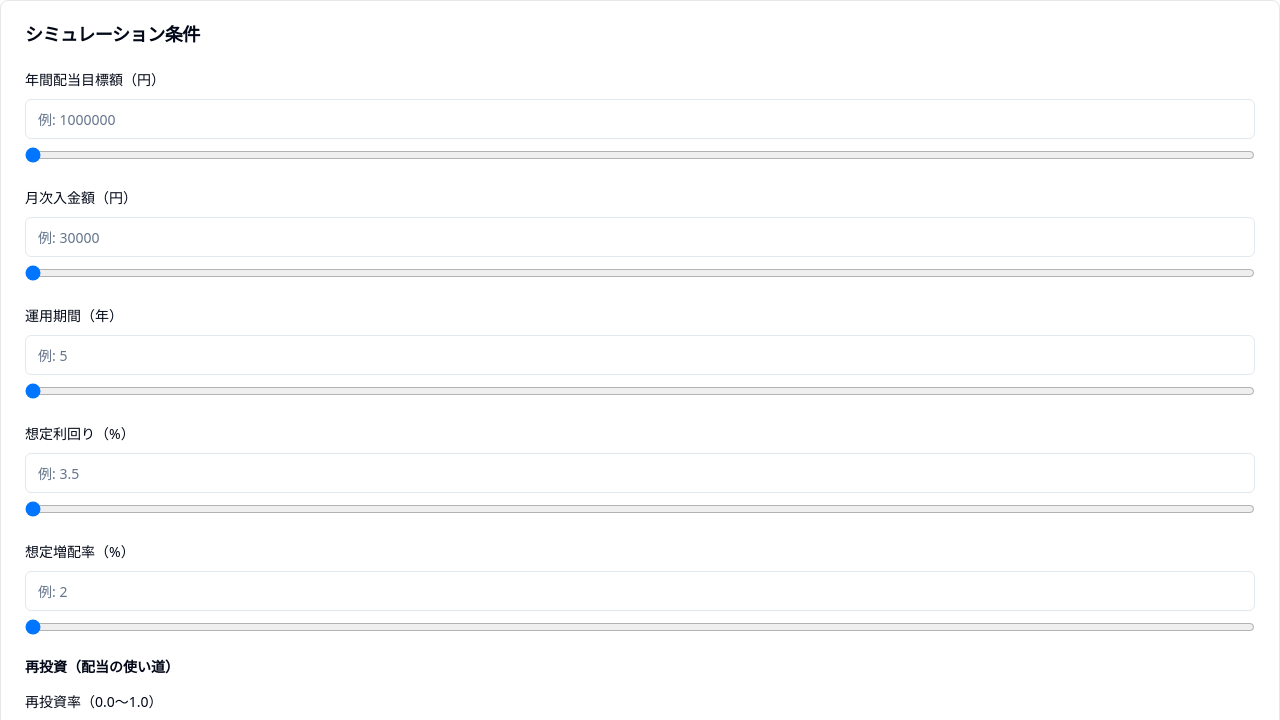
it: SimulationForm › 数値入力とスライダーが同期する
Type "2000000" into the number field labelled "年間配当目標額（円）" at (640, 119), box [25, 99, 1255, 139]
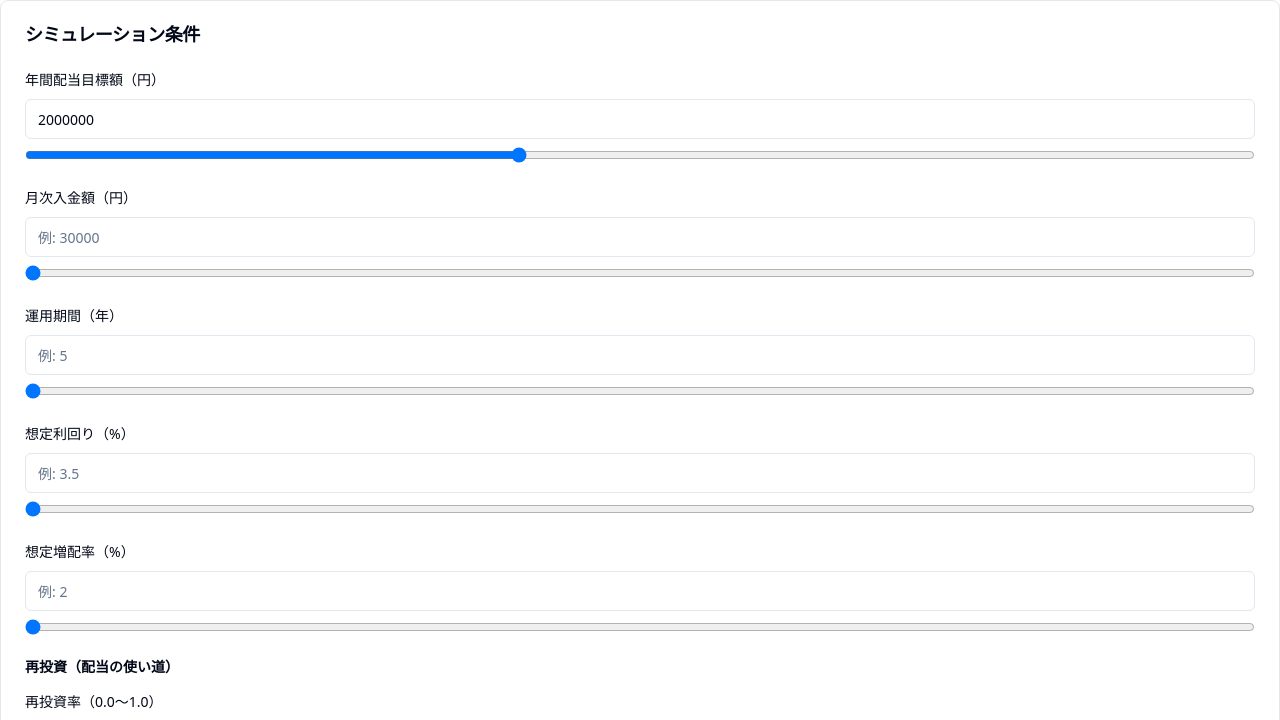
Check: the slider named "年間配当目標額スライダー" holds "2000000"
Set the slider named "年間配当目標額スライダー" to "1500000" at (397, 155), box [25, 147, 1255, 163]
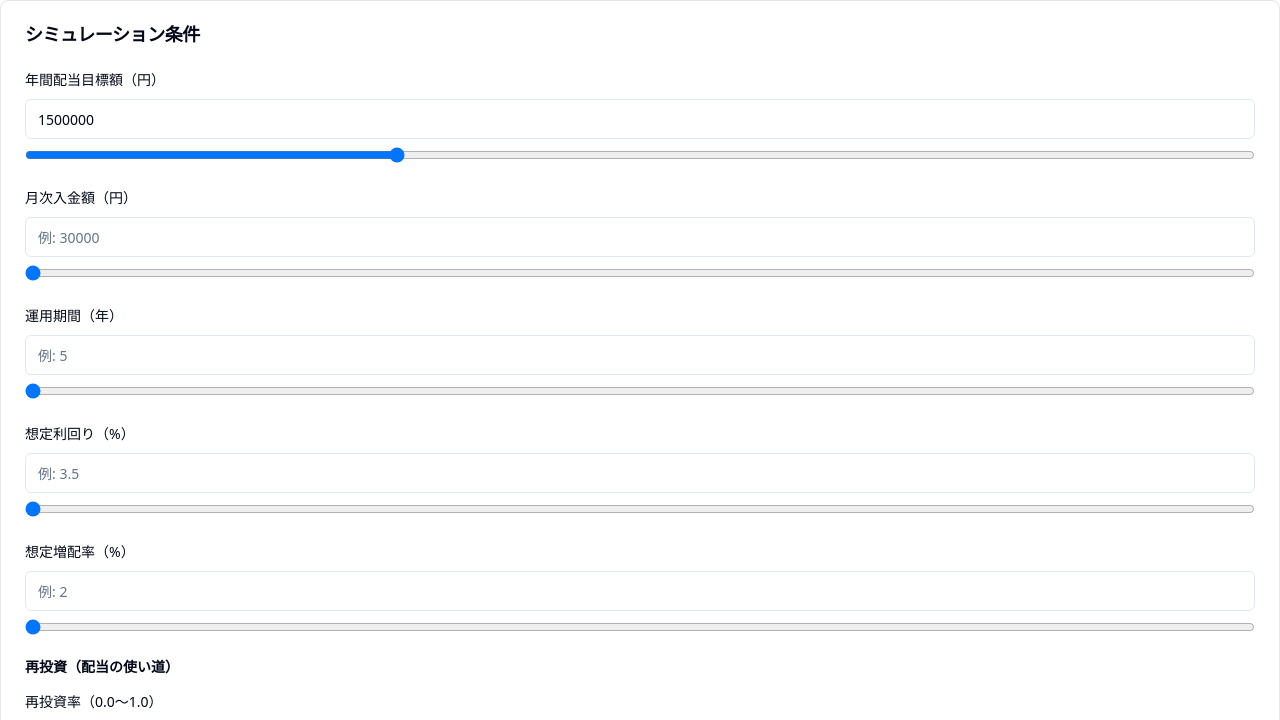
Check: the number field labelled "年間配当目標額（円）" holds "1500000", box [25, 99, 1255, 139]
